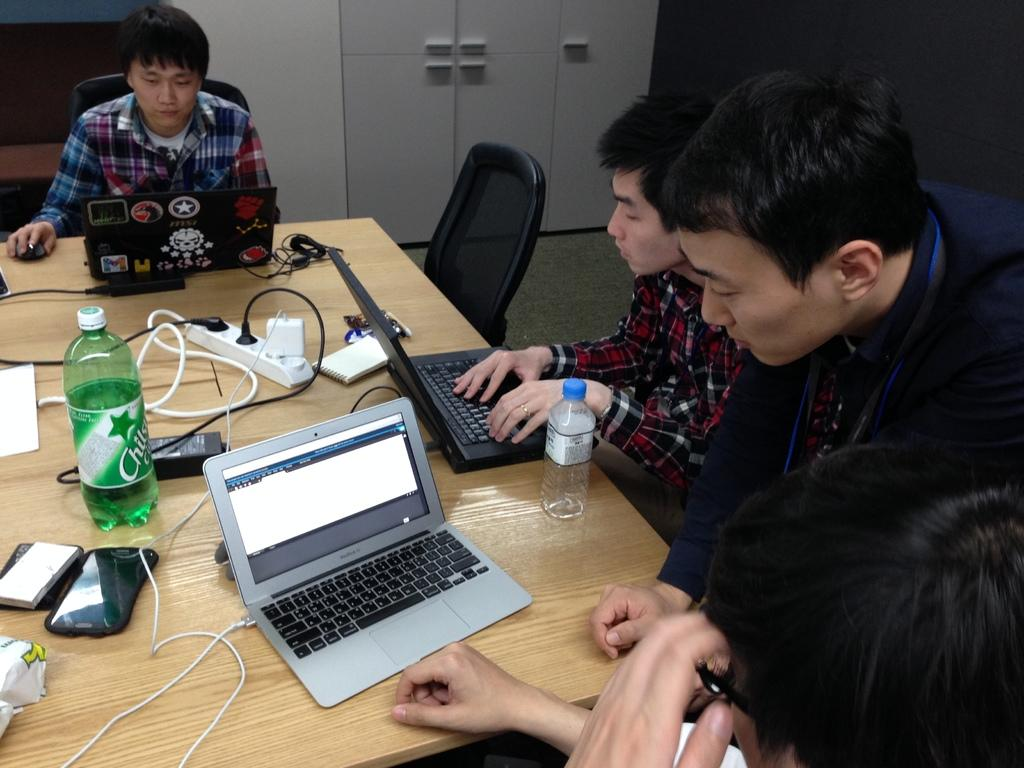Computer-keyboard: (257, 527, 490, 659), (416, 356, 534, 448)
